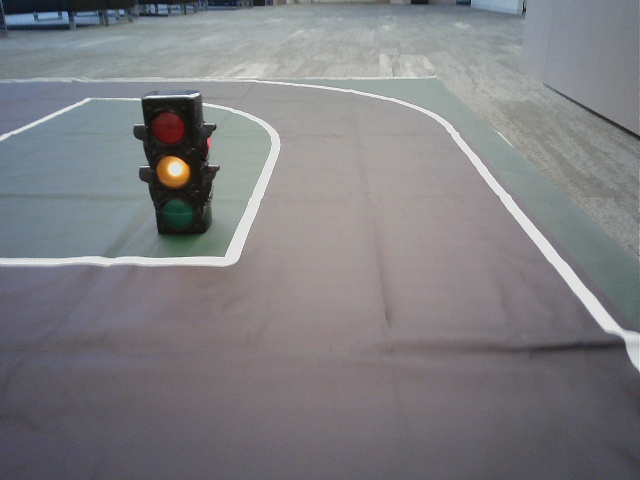yellow: (143, 103, 201, 229)
